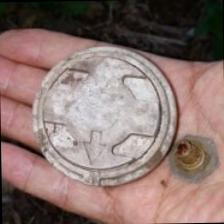M14: (29, 49, 167, 185)
